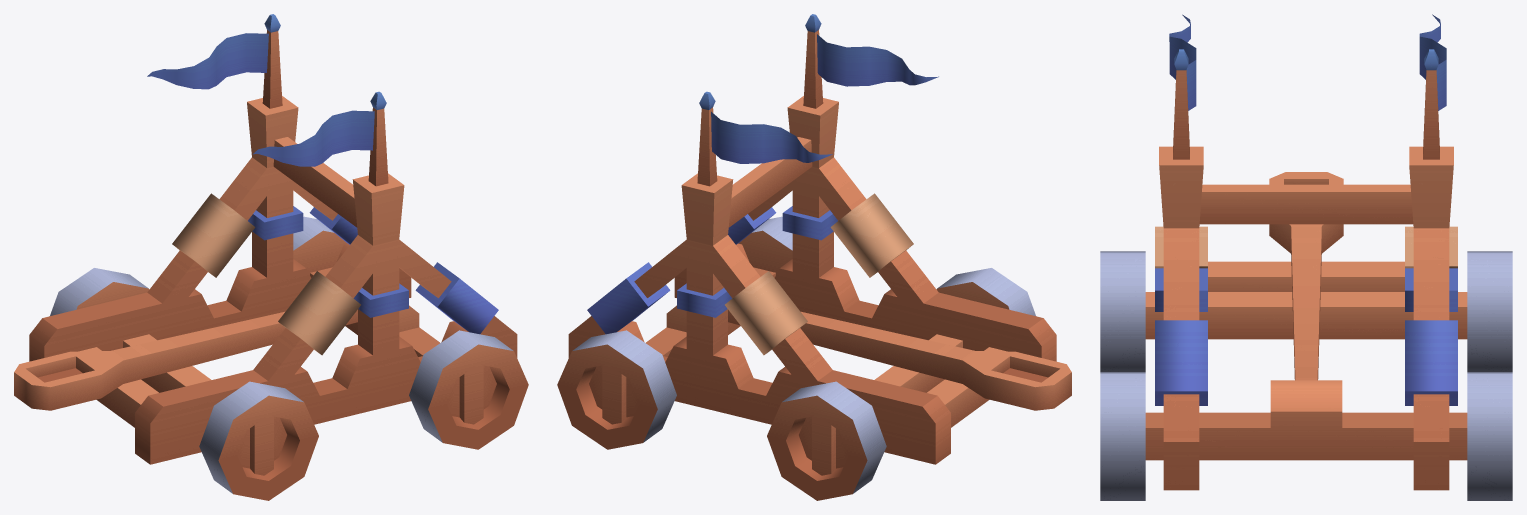
Rendered from siege-catapult.glb.
3 renders of one model, left to right at view 1: azimuth 30°, elevation 25°; view 2: azimuth 150°, elevation 25°; view 3: azimuth 270°, elevation 25°, orthographic. The views are drawn at different scales.
Visible parts, largest first — view 1: siege-catapult, wheel (×4), catapult; view 2: siege-catapult, wheel (×4), catapult; view 3: siege-catapult, wheel (×4), catapult.
Boxes of the visible parts, x1,y1,x2,y2 form: siege-catapult: (29, 14, 517, 464); wheel (×4): (50, 216, 528, 500); catapult: (14, 309, 357, 410); siege-catapult: (568, 14, 1056, 464); wheel (×4): (557, 216, 1035, 500); catapult: (728, 309, 1071, 410); siege-catapult: (1145, 14, 1467, 490); wheel (×4): (1100, 251, 1512, 500); catapult: (1269, 172, 1343, 380).
Bounding box in the file's own units: 1.73 × 1.33 × 1.21.
1 material, 1 textured.
